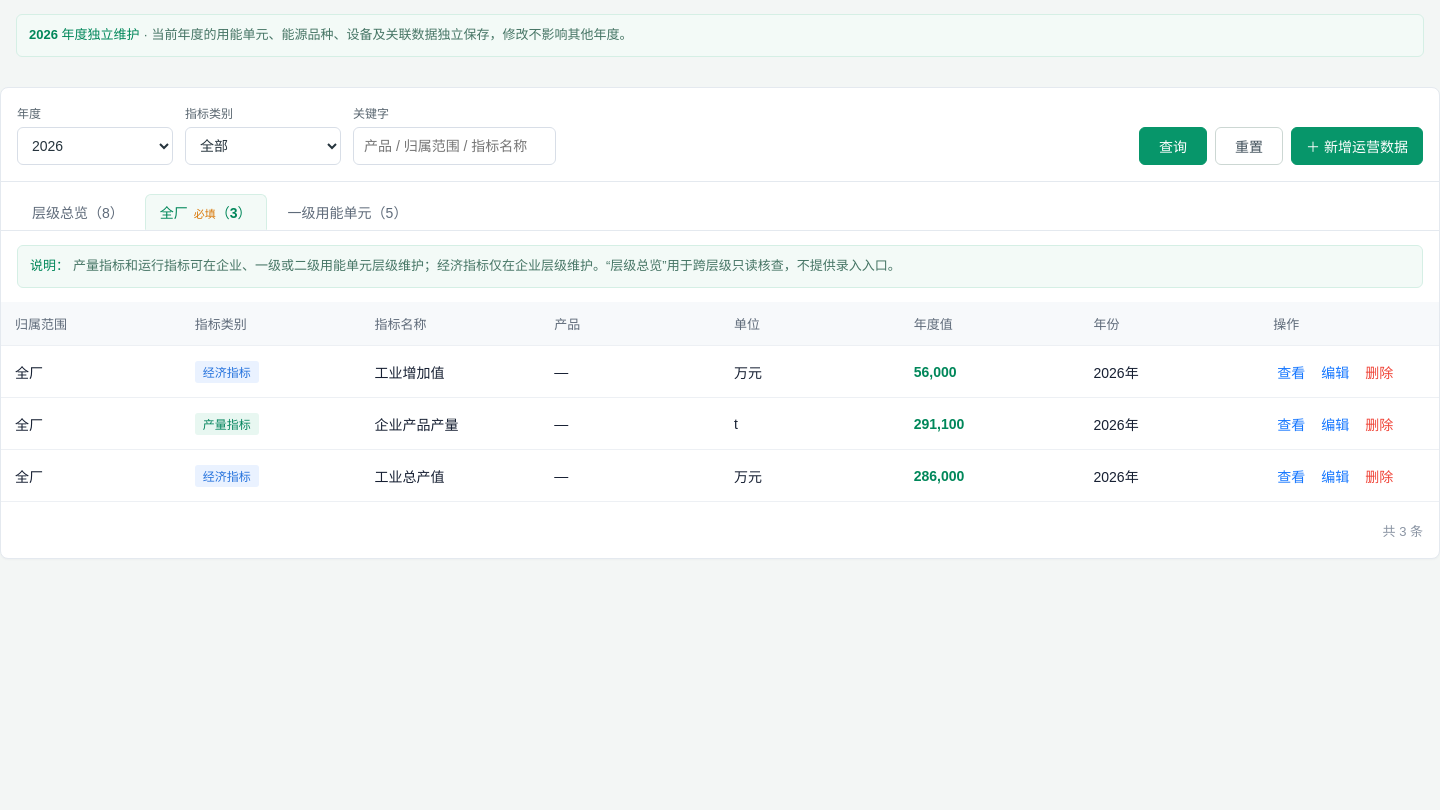
Test: annual ledgers and shared monthly details › distinguishes read-only viewing from one complete editing dialog on /data-management/operations?scopeLevel=企业
This screenshot has width=1440, height=810.
Click the button "查看" in the row of "工业增加值": (1291, 372) [1273,360,1309,384]
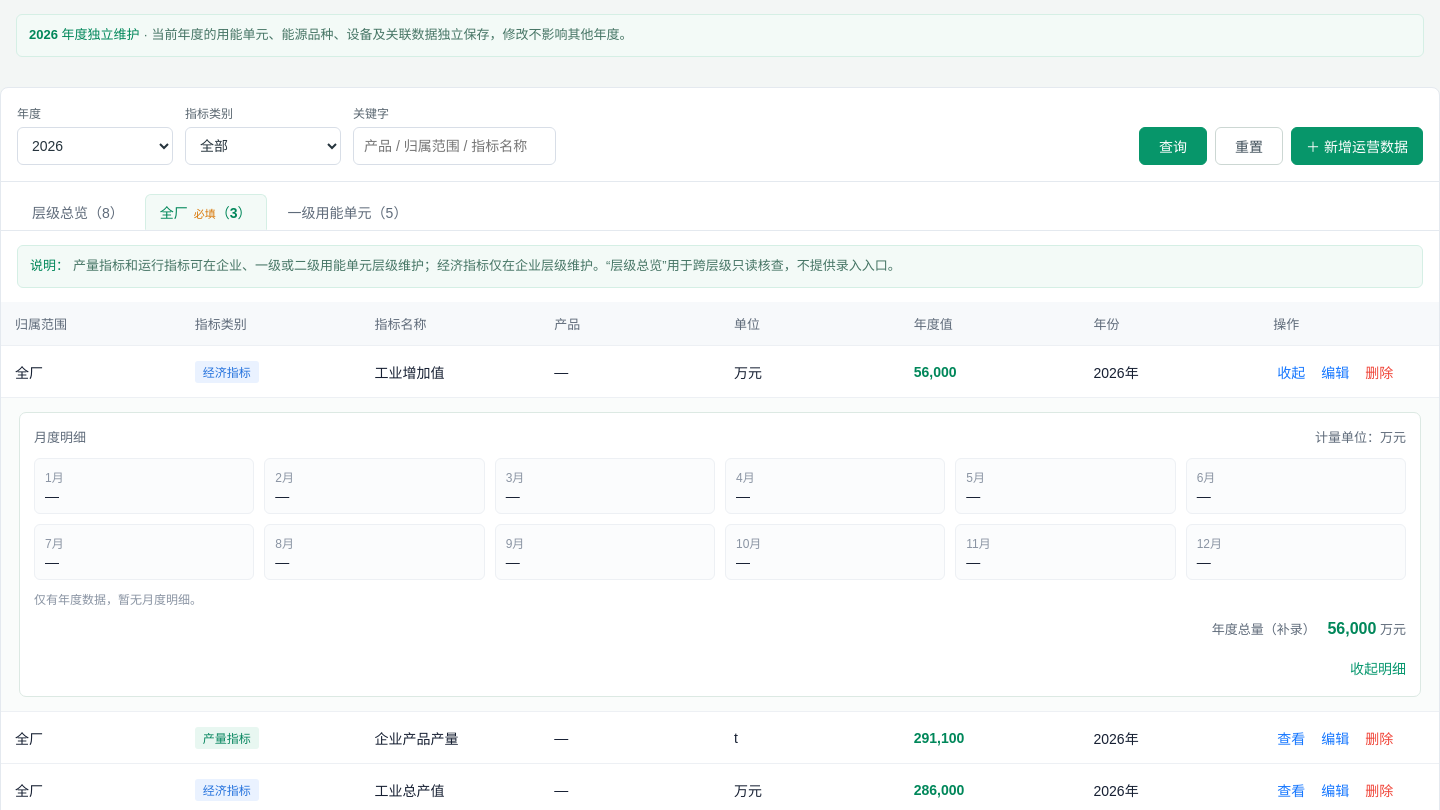
Click the button "编辑" in the row of "工业增加值": (1335, 372) [1317,360,1353,384]
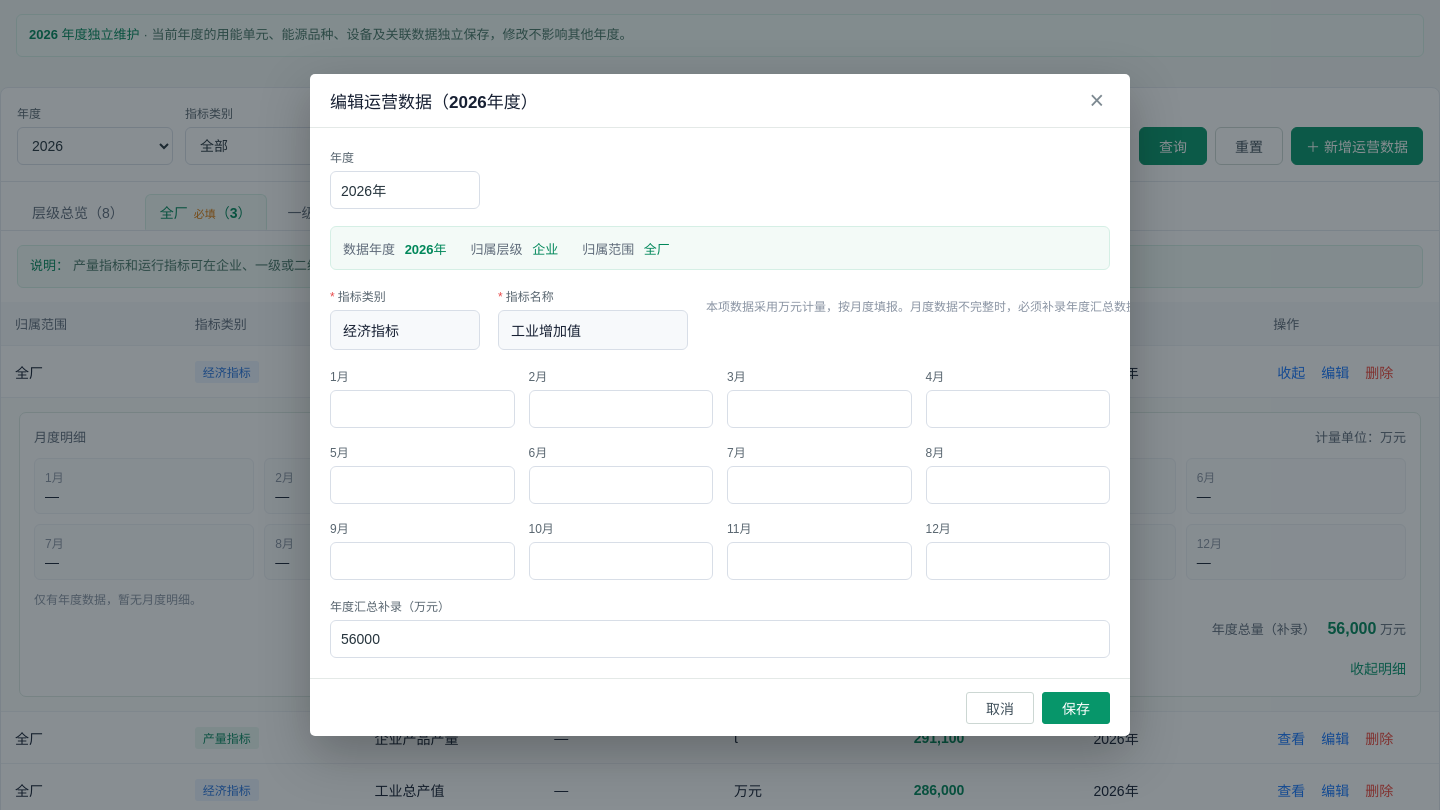
Result: the dialog is shown at [310,74,1130,736]
Click the button "取消": (1000, 708) [966,692,1034,724]
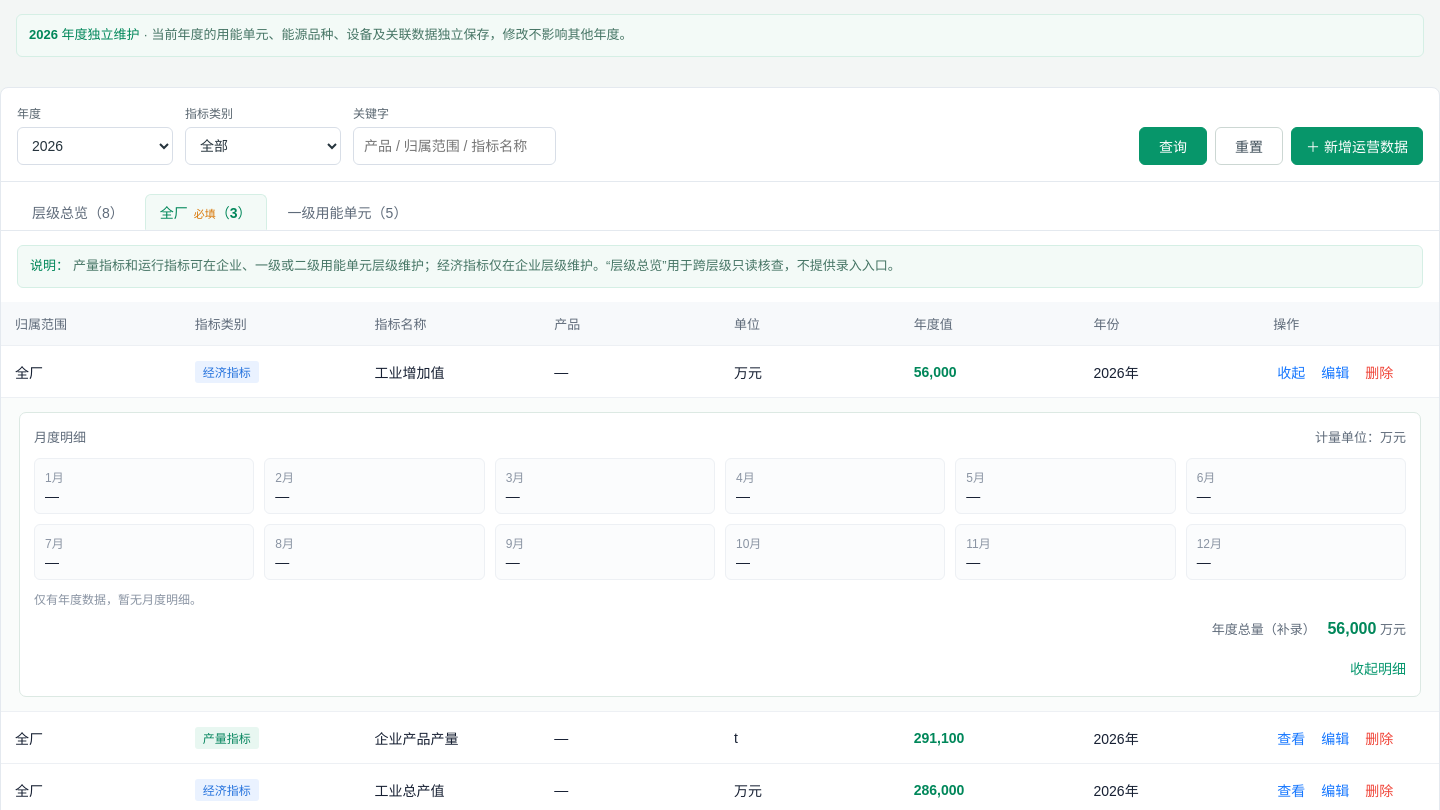
Result: the dialog is gone
